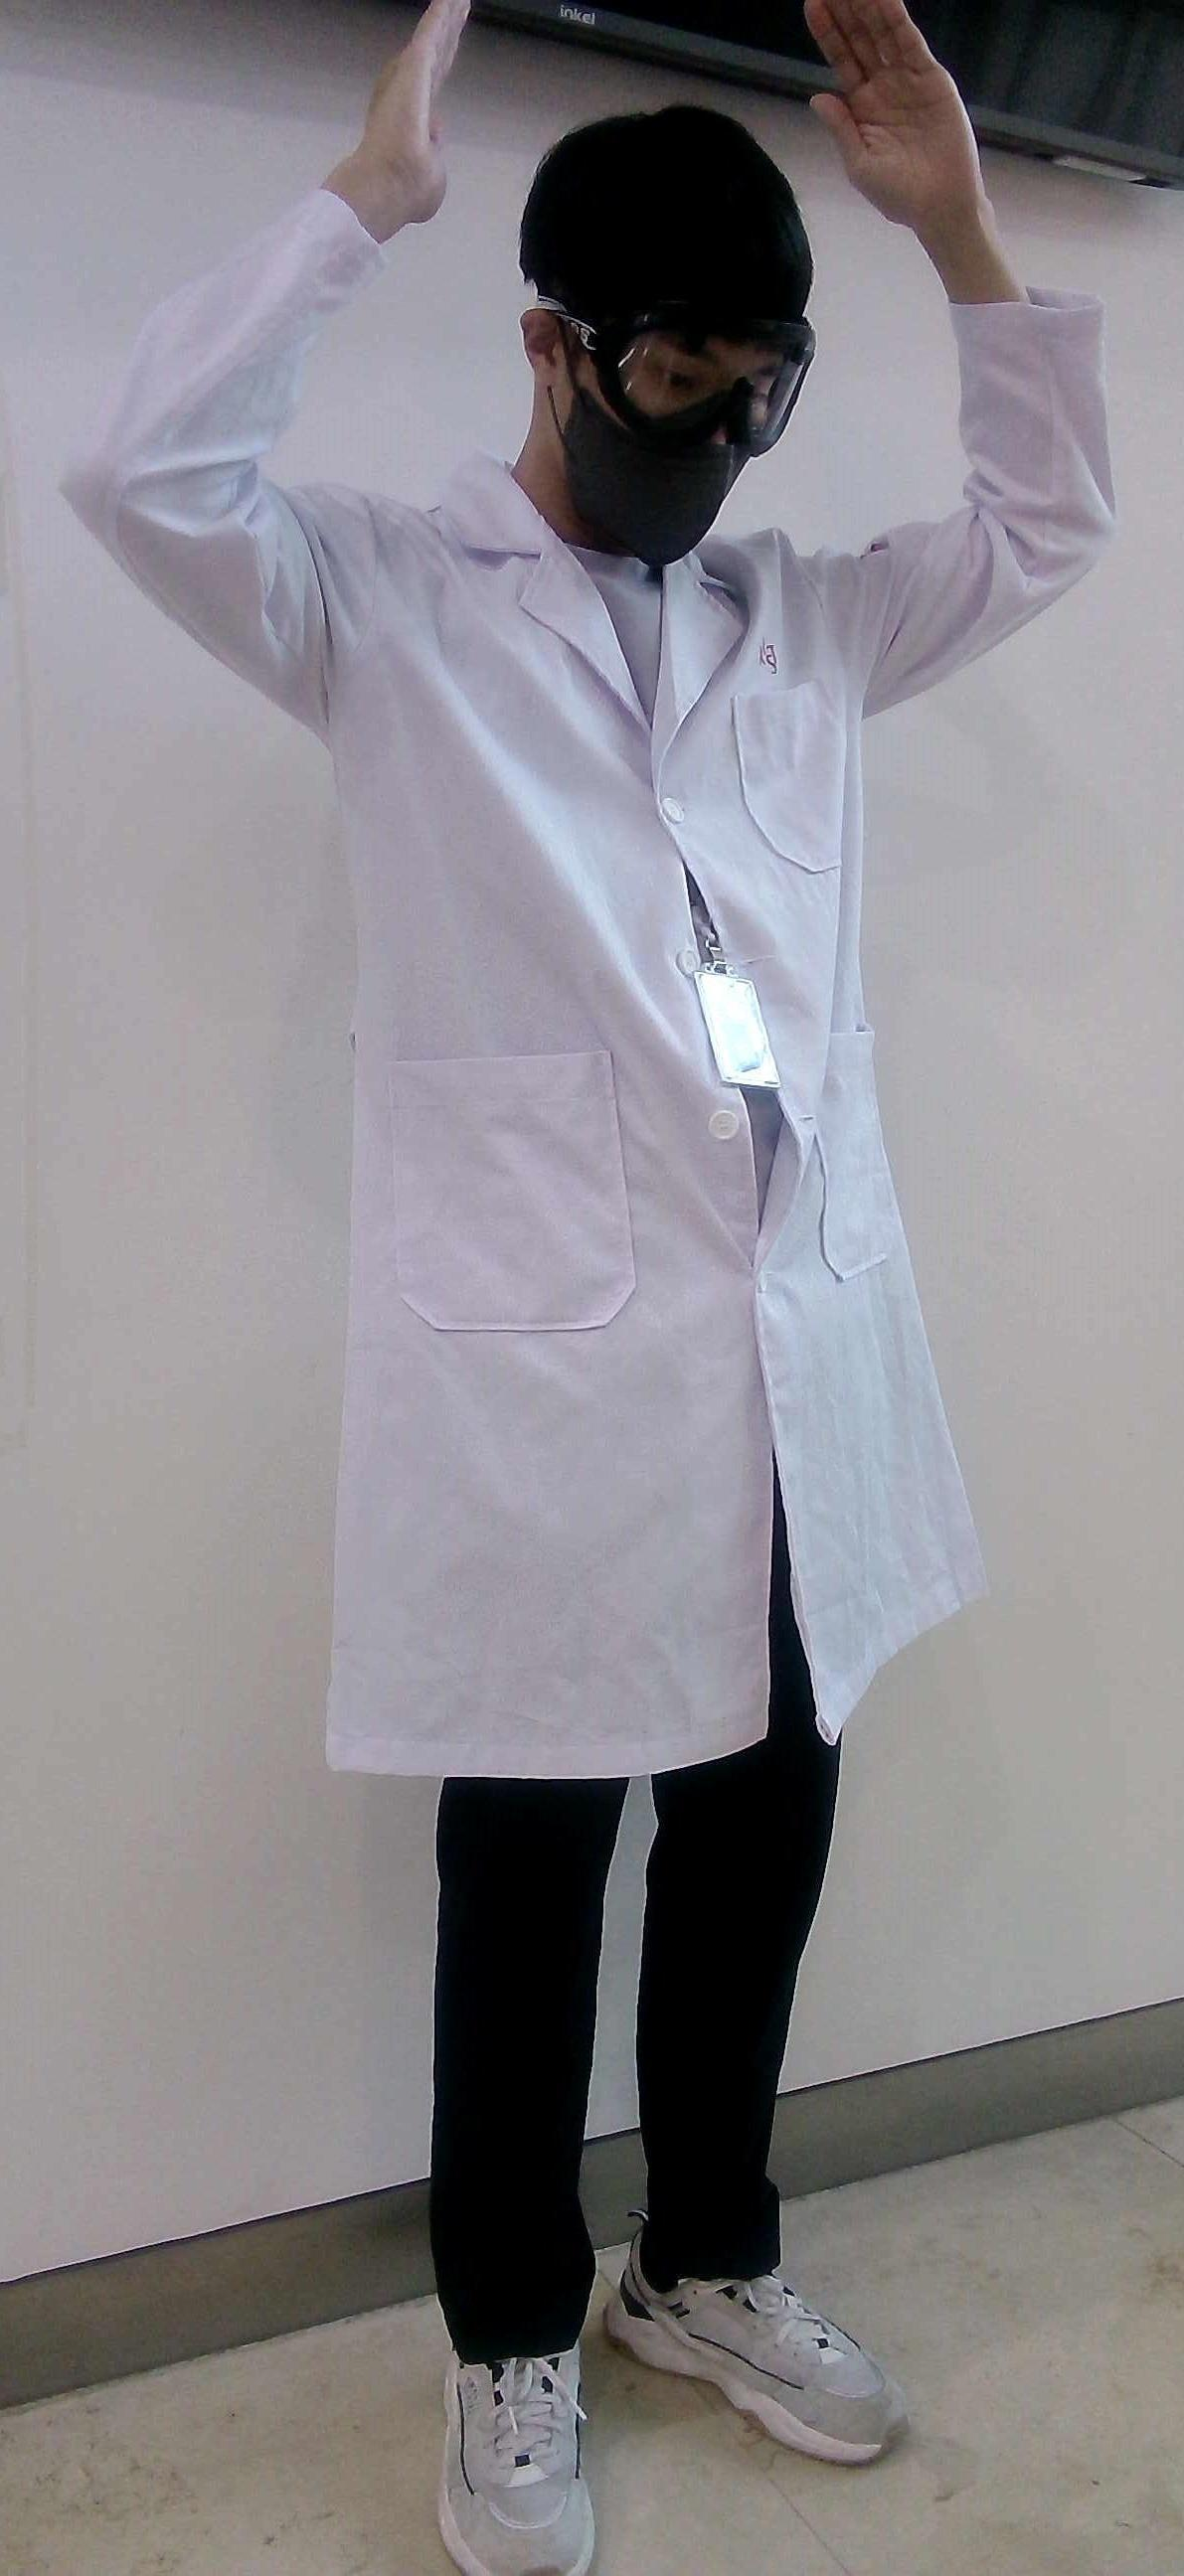lab_coat: (275, 444, 1010, 1735)
